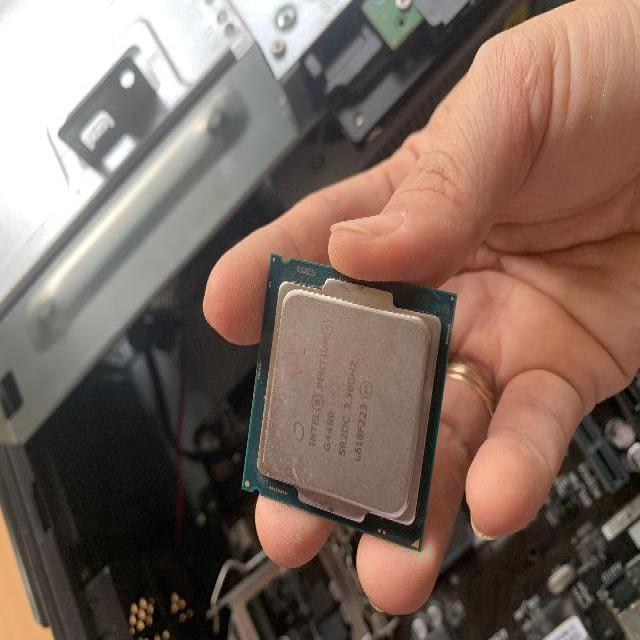CPU: (240, 252, 460, 552)
